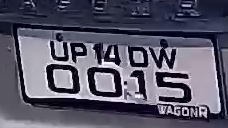0: (42, 62, 82, 96), (87, 65, 124, 100)
1: (128, 69, 151, 104), (89, 41, 104, 66)
4: (105, 43, 123, 68)
5: (153, 70, 196, 104)
D: (127, 46, 151, 68)
P: (70, 40, 87, 65)
U: (47, 41, 70, 62)
W: (149, 47, 176, 70)
